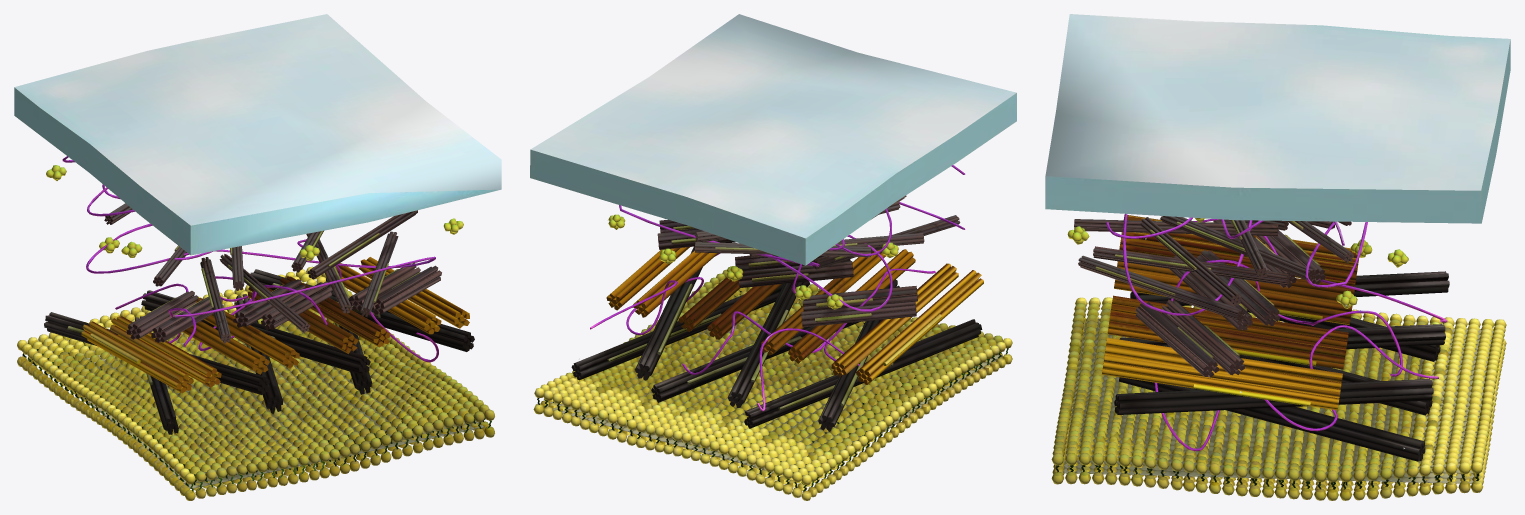
Rendered from modelo.glb.
3 renders of one model, left to right at view 1: azimuth 30°, elevation 25°; view 2: azimuth 150°, elevation 25°; view 3: azimuth 270°, elevation 25°, orthographic. The views are drawn at different scales.
Parts seen in each view (by area): view 1: Object_22, Object_9, Object_16, Object_18, Object_6, Object_15, Object_20, Object_10, Object_14, Object_12, Object_17, Object_11 (+2 smaller); view 2: Object_22, Object_9, Object_16, Object_18, Object_15, Object_6, Object_20, Object_17, Object_12, Object_13, Object_11, Object_8 (+2 smaller); view 3: Object_22, Object_9, Object_16, Object_18, Object_20, Object_15, Object_6, Object_10, Object_14, Object_17, Object_12, Object_13 (+2 smaller).
Boxes of the visible parts, x1,y1,x2,y2 form: Object_22: (14, 14, 501, 255); Object_9: (17, 266, 494, 483); Object_16: (81, 257, 469, 393); Object_18: (44, 269, 474, 434); Object_6: (17, 356, 494, 500); Object_15: (126, 263, 441, 342); Object_20: (32, 305, 484, 488); Object_10: (200, 231, 398, 343); Object_14: (153, 210, 417, 290); Object_12: (62, 156, 435, 317); Object_17: (115, 239, 438, 362); Object_11: (46, 165, 463, 261); Object_22: (530, 14, 1016, 265); Object_9: (534, 265, 1012, 485); Object_16: (606, 247, 983, 384); Object_18: (571, 246, 982, 431); Object_15: (657, 219, 917, 327); Object_6: (533, 290, 1012, 500); Object_20: (543, 299, 1002, 479); Object_17: (590, 253, 935, 411); Object_12: (619, 165, 965, 311); Object_13: (695, 231, 871, 257); Object_11: (608, 214, 898, 309); Object_8: (685, 336, 1008, 491); Object_22: (1045, 14, 1510, 223); Object_9: (1051, 297, 1506, 482); Object_16: (1102, 215, 1358, 410); Object_18: (1114, 271, 1449, 461); Object_20: (1063, 318, 1493, 483); Object_15: (1135, 219, 1325, 377); Object_6: (1051, 316, 1506, 500); Object_10: (1074, 219, 1289, 320); Object_14: (1140, 216, 1351, 305); Object_17: (1154, 219, 1447, 451); Object_12: (1106, 214, 1367, 315); Object_13: (1231, 220, 1354, 278).
Bounding box in the file's own units: 1.38 × 1.21 × 1.55.
Materials: 16 (15 with a texture image).
